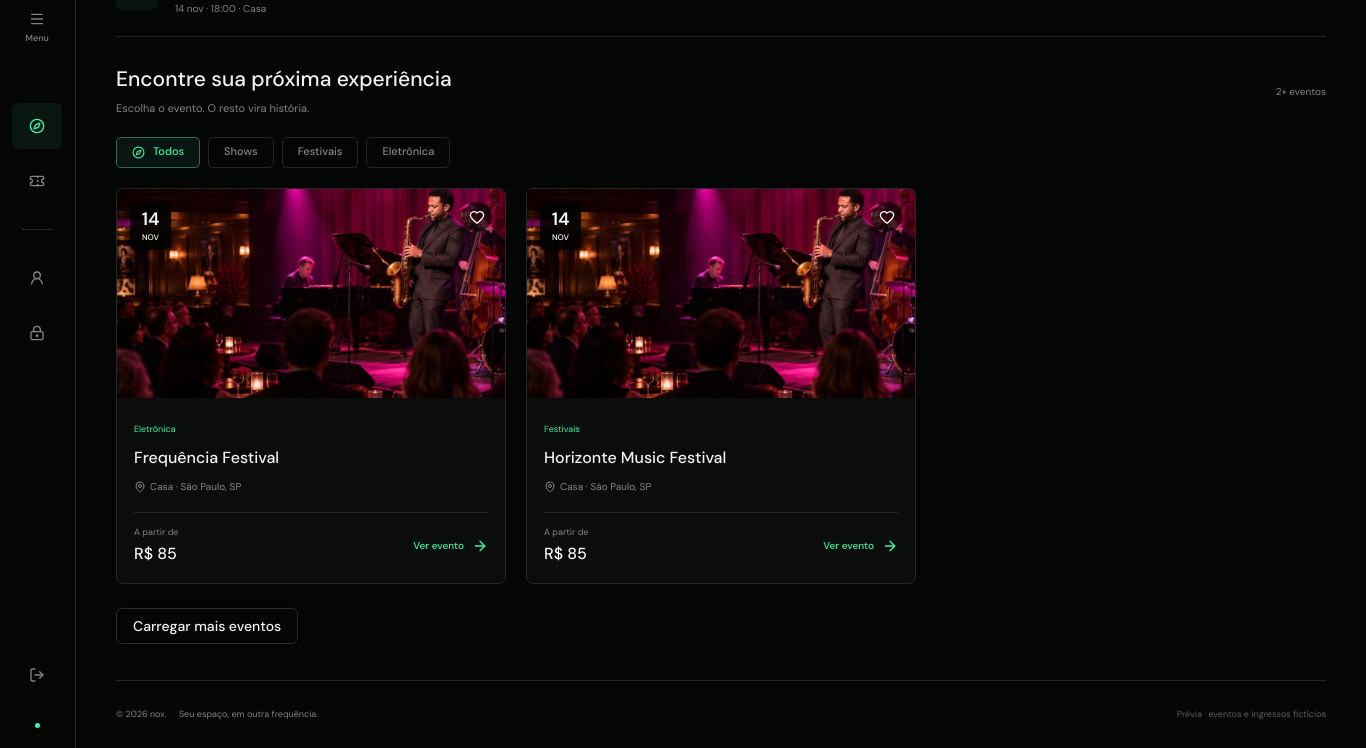
Test: EventHome › shows an error when loading fails
(page scrolled)
Click the button "Carregar mais eventos" at (207, 626), box [116,608,298,644]
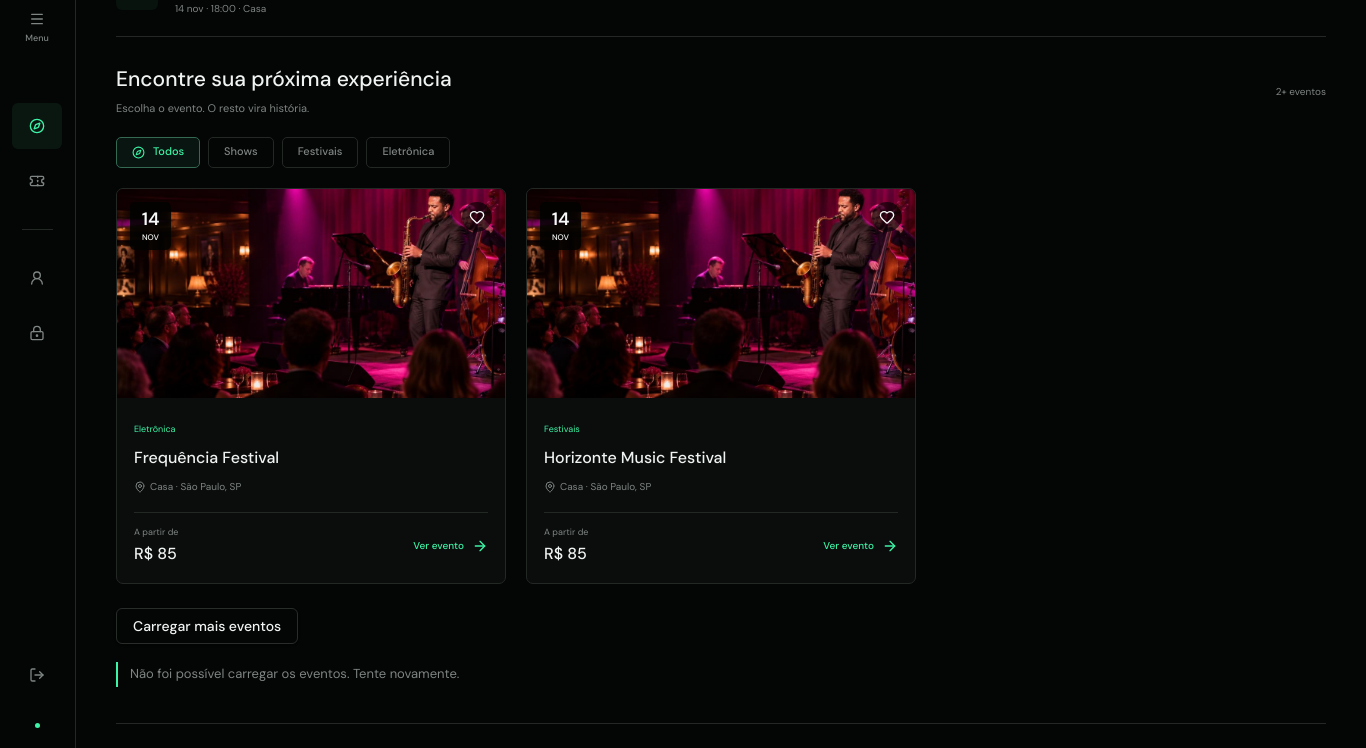
Expected: the message shows "Não foi possível carregar", [130,665,459,682]
